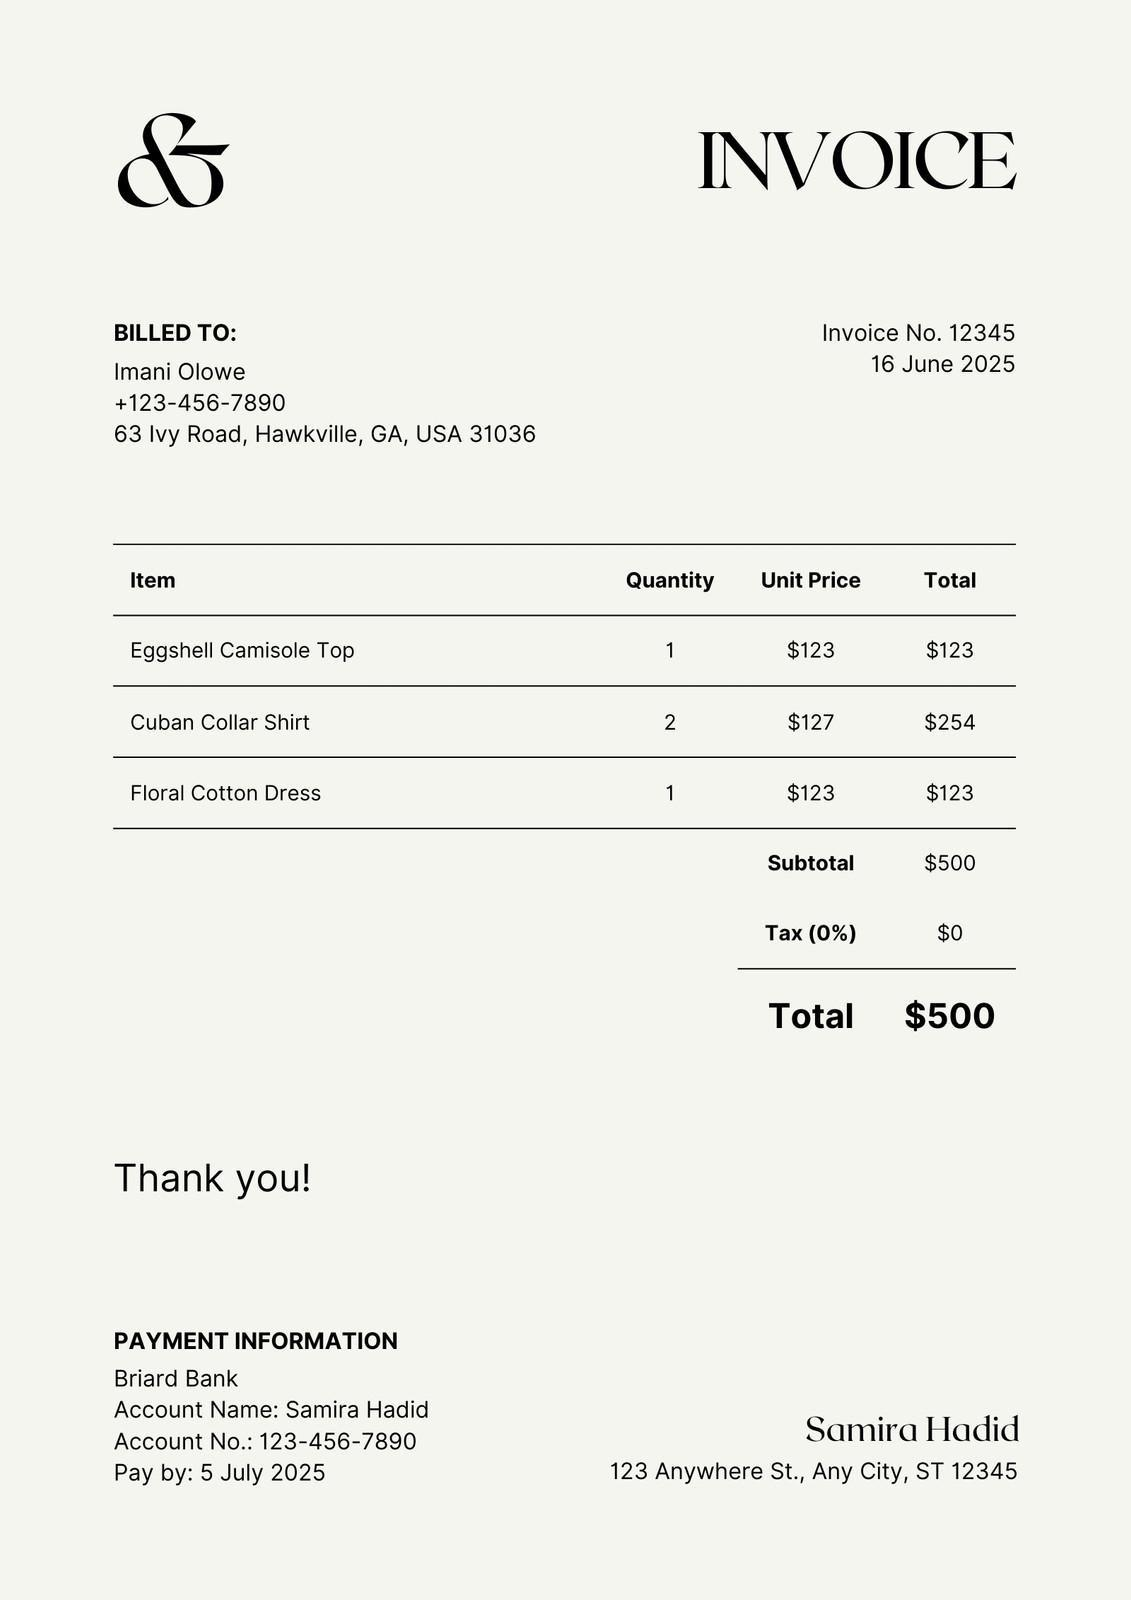ROI: (120, 560, 990, 810), (102, 305, 542, 453), (100, 1320, 440, 1498), (765, 848, 1000, 1038), (605, 1405, 1032, 1500), (800, 308, 1025, 388)
